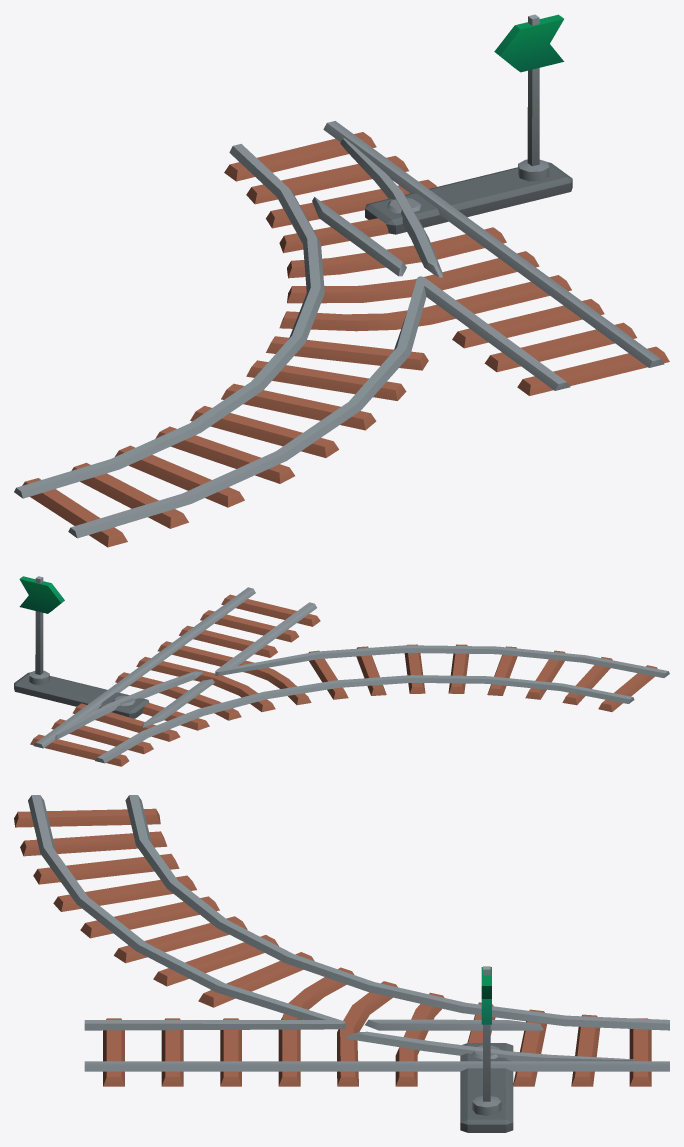
The model's file is tracks_split_right.gltf.
The picture shows the model from 3 angles, top to bottom: view 1: azimuth 30°, elevation 25°; view 2: azimuth 150°, elevation 25°; view 3: azimuth 270°, elevation 25°; orthographic projection. The views are drawn at different scales.
Visible parts, largest first — view 1: tracks_split_right, tracks_split_right_arrow, tracks_split_right_part; view 2: tracks_split_right, tracks_split_right_arrow, tracks_split_right_part; view 3: tracks_split_right, tracks_split_right_arrow, tracks_split_right_part.
Part boxes in pixels (<box>): tracks_split_right: <box>14,121,669,547</box>; tracks_split_right_arrow: <box>494,14,564,181</box>; tracks_split_right_part: <box>340,138,421,213</box>; tracks_split_right: <box>14,587,669,766</box>; tracks_split_right_arrow: <box>19,576,64,684</box>; tracks_split_right_part: <box>55,695,135,739</box>; tracks_split_right: <box>14,795,669,1132</box>; tracks_split_right_arrow: <box>472,966,501,1115</box>; tracks_split_right_part: <box>472,1045,634,1061</box>.
Bounding box in the file's own units: 2.62 × 0.575 × 2.24.
Materials: 1 (1 with a texture image).
